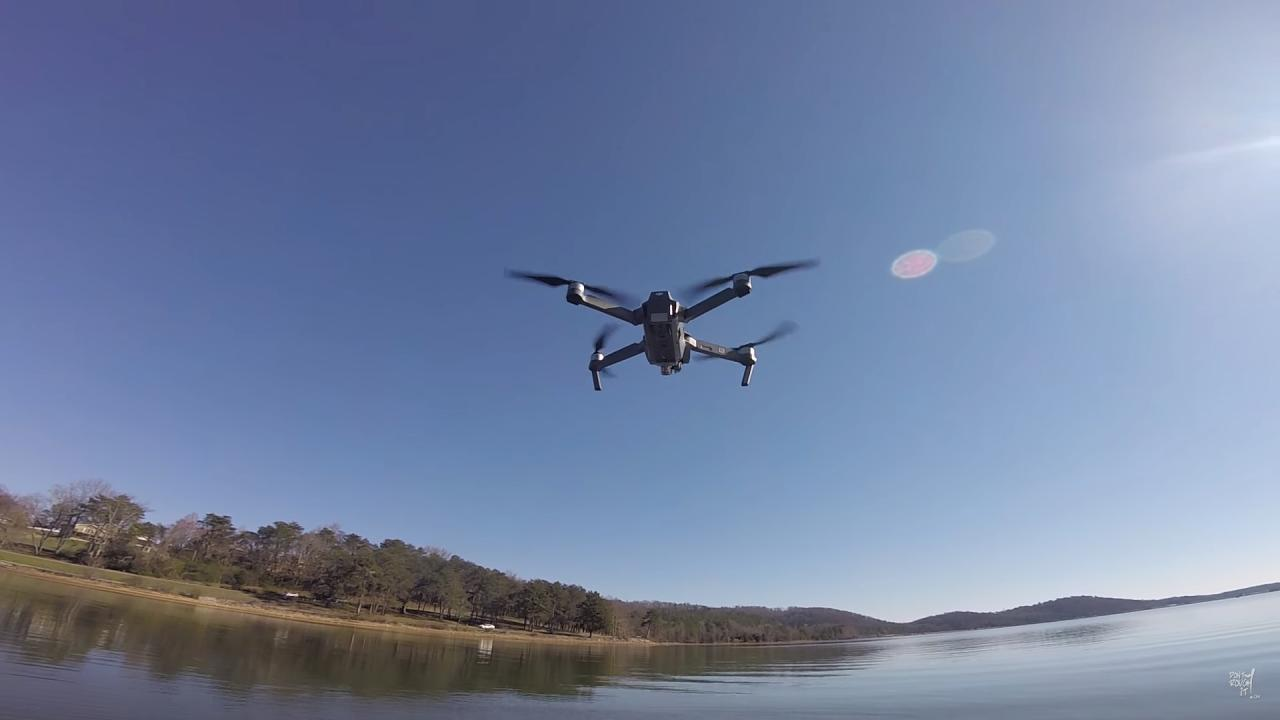Drone: (488, 250, 832, 401)
